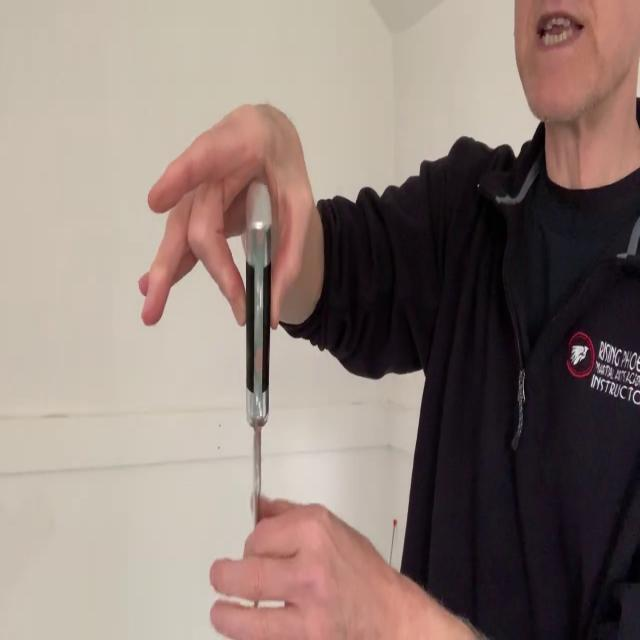Knife_Handle: (210, 179, 383, 640), (140, 104, 272, 529)
